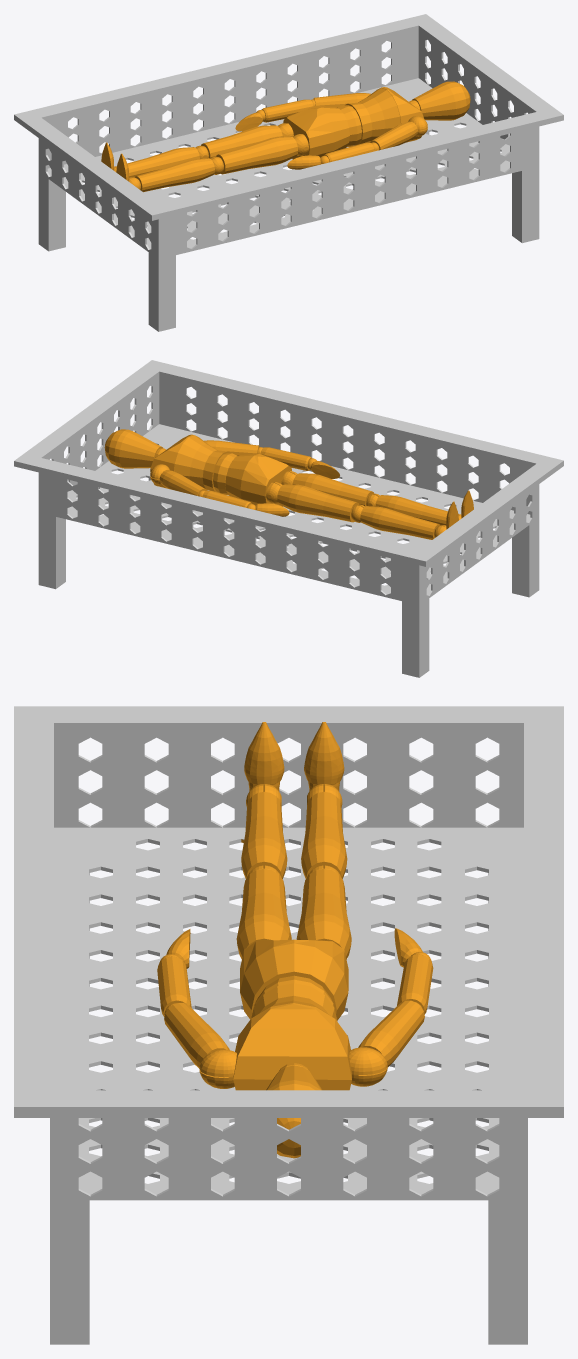
Rendered from basket.dae.
3 renders of one model, top to bottom at view 1: azimuth 30°, elevation 25°; view 2: azimuth 150°, elevation 25°; view 3: azimuth 270°, elevation 25°, orthographic. The views are drawn at different scales.
Parts seen in each view (by area): view 1: node_ecd53585_129d_49f6_8703_8e2aa4e476bd_mesh0; view 2: node_ecd53585_129d_49f6_8703_8e2aa4e476bd_mesh0; view 3: node_ecd53585_129d_49f6_8703_8e2aa4e476bd_mesh0.
Boxes of the visible parts, <box> form: node_ecd53585_129d_49f6_8703_8e2aa4e476bd_mesh0: <box>14,14,563,331</box>; node_ecd53585_129d_49f6_8703_8e2aa4e476bd_mesh0: <box>14,360,563,677</box>; node_ecd53585_129d_49f6_8703_8e2aa4e476bd_mesh0: <box>14,706,563,1344</box>.
Bounding box in the file's own units: 238 × 138 × 74.27.
